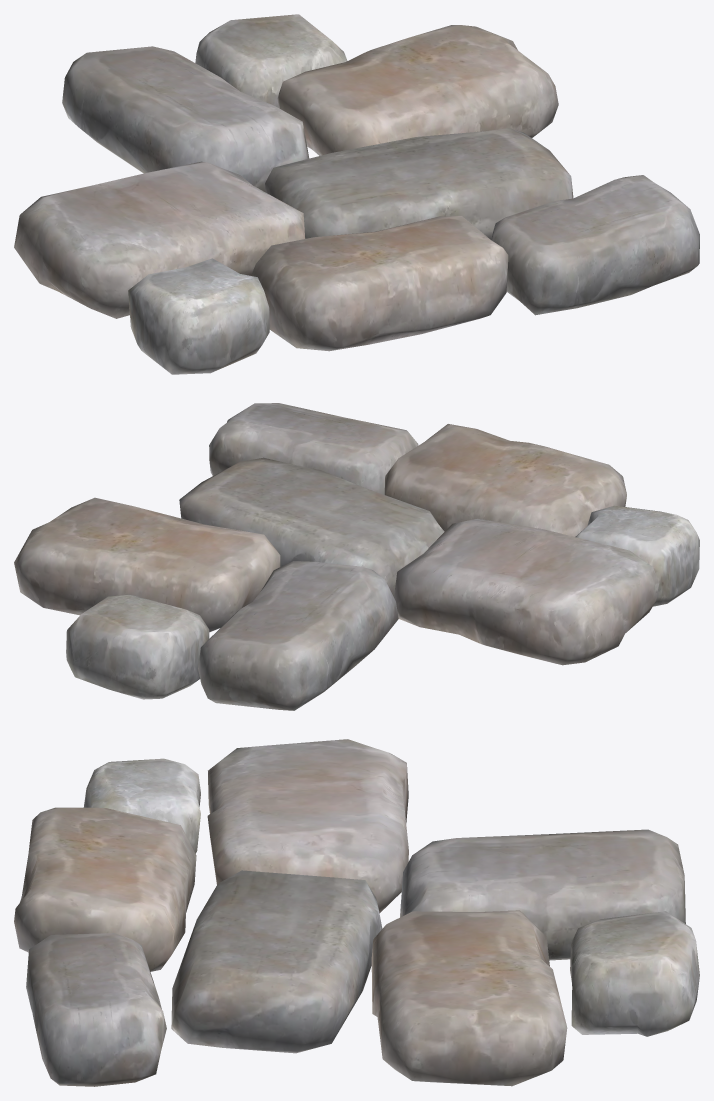
3 renders of one model, top to bottom at view 1: azimuth 30°, elevation 25°; view 2: azimuth 150°, elevation 25°; view 3: azimuth 270°, elevation 25°, orthographic. The views are drawn at different scales.
Visible parts, largest first — view 1: SM_Pavement_04_LOD0; view 2: SM_Pavement_04_LOD0; view 3: SM_Pavement_04_LOD0.
Boxes of the visible parts, x1,y1,x2,y2 form: SM_Pavement_04_LOD0: [14, 14, 699, 374]; SM_Pavement_04_LOD0: [14, 403, 699, 710]; SM_Pavement_04_LOD0: [14, 739, 699, 1086].
Size of the model in its own units: 1.35 by 0.2098 by 1.37.
Materials: 1 (1 with a texture image).
